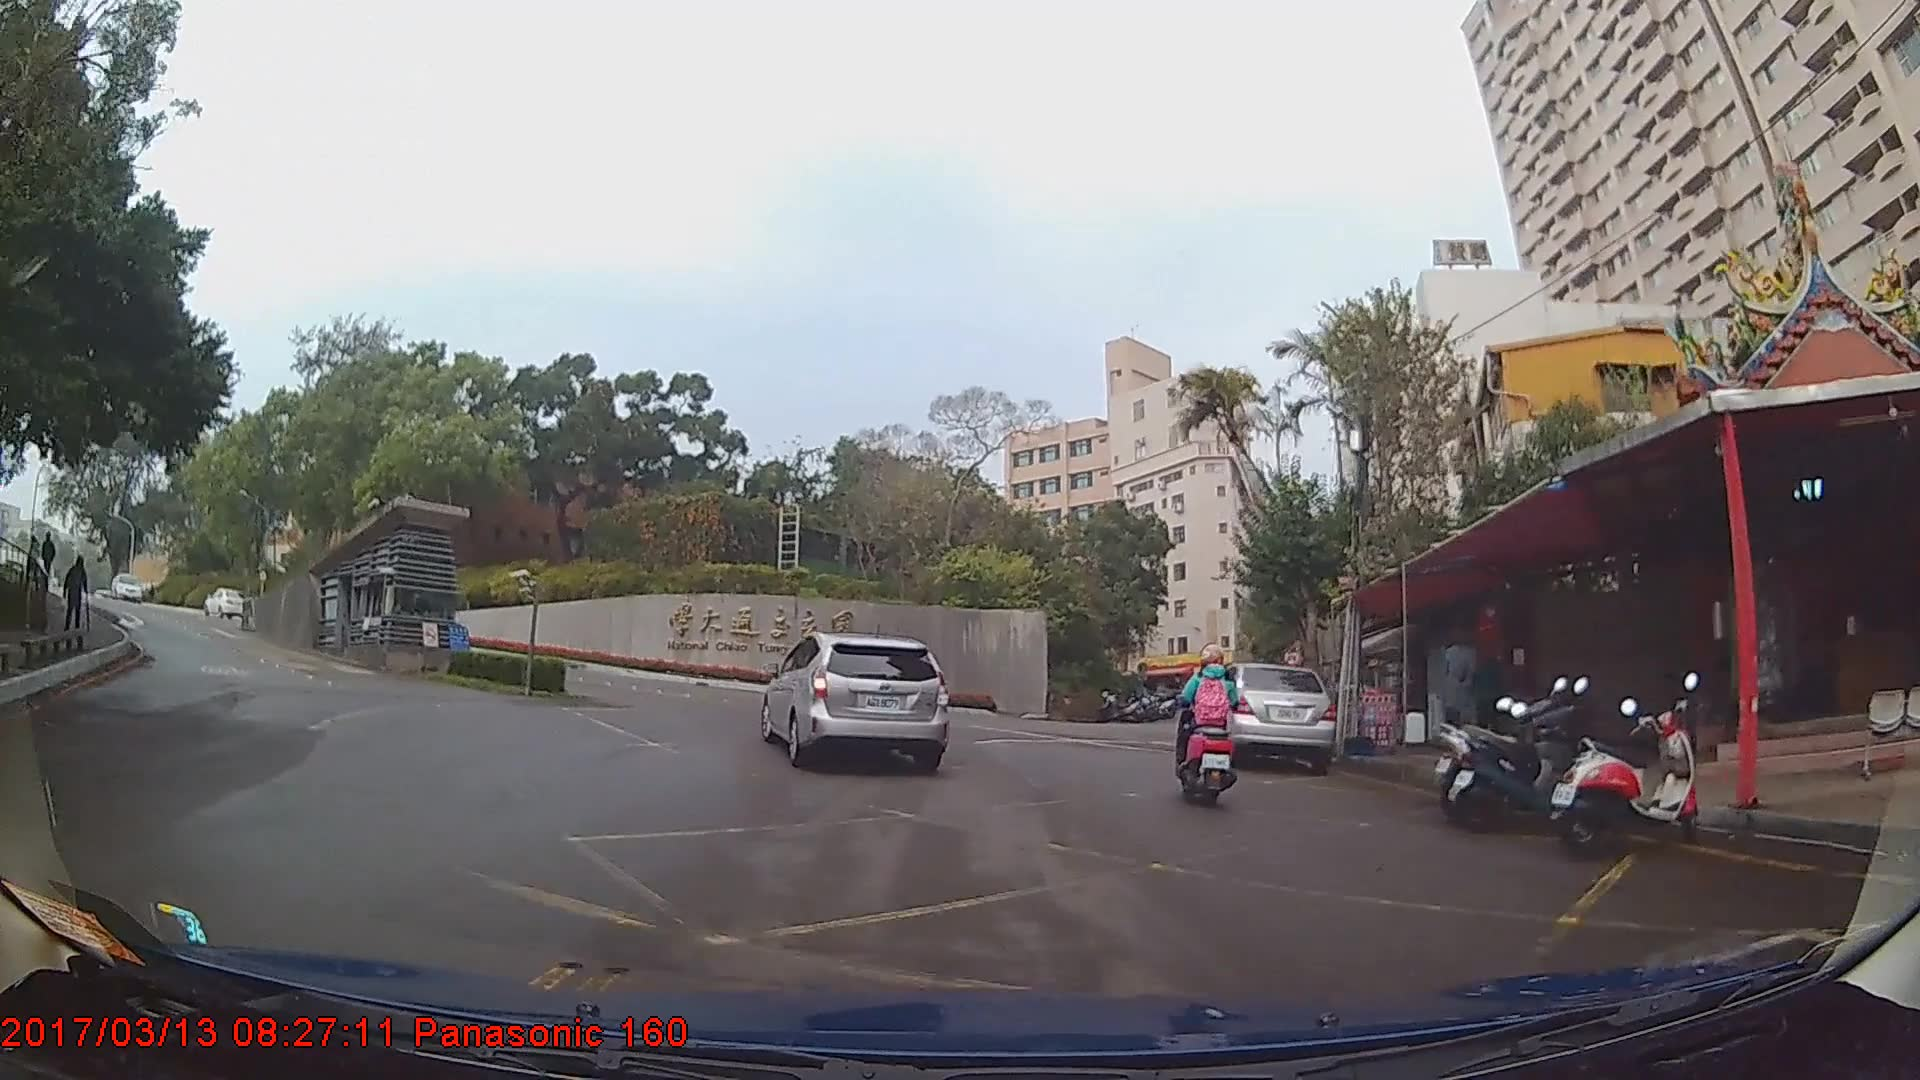pedestrian: (1468, 641, 1511, 761), (62, 556, 91, 634), (39, 529, 59, 593), (22, 534, 43, 586)
rider: (1170, 654, 1246, 819)
vehicle: (758, 628, 948, 772), (1199, 663, 1339, 775), (204, 589, 244, 619), (107, 572, 144, 603)
